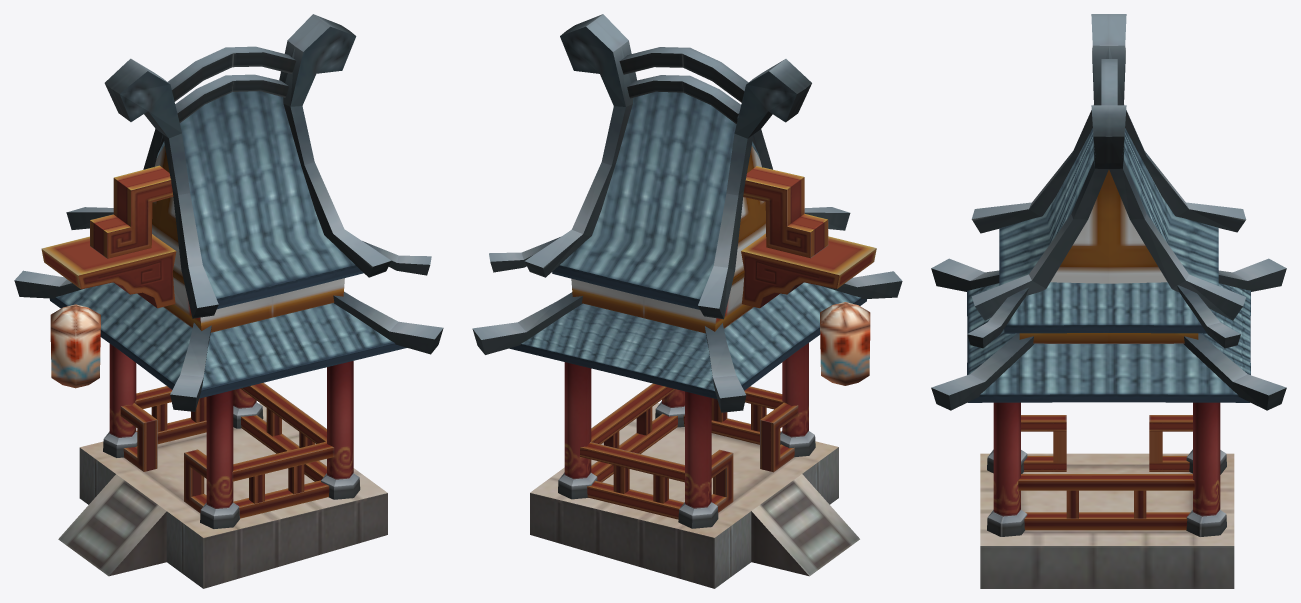
The model's file is FB_Xiaoshengxianzhuang_01.FBX.
3 renders of one model, left to right at view 1: azimuth 30°, elevation 25°; view 2: azimuth 150°, elevation 25°; view 3: azimuth 270°, elevation 25°, orthographic. The views are drawn at different scales.
Parts seen in each view (by area): view 1: Object01, Object02; view 2: Object01, Object02; view 3: Object01.
Part boxes in pixels (left/top/right/bottom): Object01: left=14, top=14, right=443, bottom=588; Object02: left=50, top=304, right=100, bottom=388; Object01: left=472, top=14, right=902, bottom=588; Object02: left=820, top=302, right=870, bottom=385; Object01: left=931, top=14, right=1286, bottom=588.
Size of the model in its own units: 5.21 by 7.39 by 4.85.
